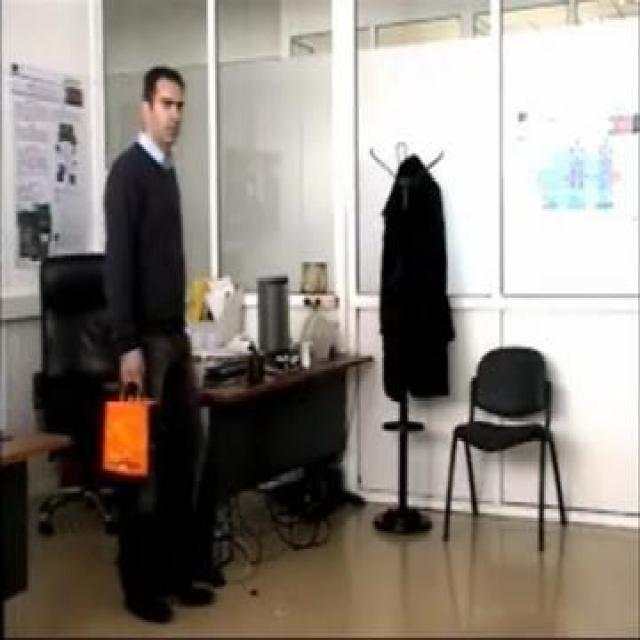other: (100, 386, 149, 476)
